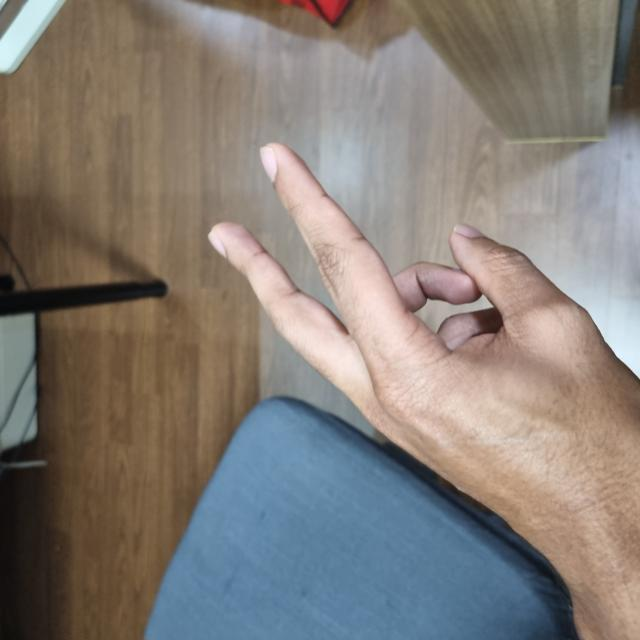Scissors: (61, 212, 491, 640)
